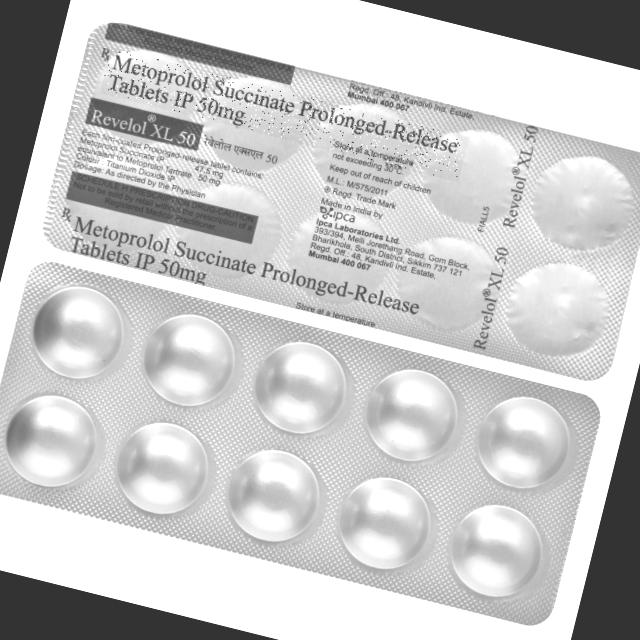Medicine-name: (102, 51, 469, 165)
